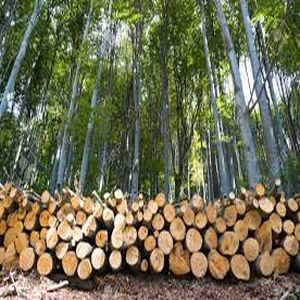log: (169, 242, 191, 276), (228, 253, 252, 283), (207, 251, 229, 280), (189, 250, 208, 279), (258, 253, 277, 280), (272, 248, 291, 275), (185, 225, 203, 253), (219, 230, 239, 255), (60, 249, 77, 278), (242, 237, 260, 264), (245, 208, 263, 235), (169, 216, 186, 243), (157, 230, 175, 255), (222, 204, 240, 229), (17, 247, 36, 270), (90, 247, 107, 272), (150, 248, 166, 274), (36, 253, 54, 276), (282, 233, 300, 256), (57, 220, 74, 244), (76, 256, 92, 281), (79, 217, 99, 237), (203, 227, 219, 251), (267, 213, 285, 234), (124, 245, 139, 268), (193, 210, 208, 233), (121, 226, 137, 247), (14, 233, 30, 254), (22, 210, 37, 232), (75, 241, 92, 260), (234, 219, 248, 242), (108, 250, 123, 271), (37, 208, 52, 229), (232, 196, 249, 214), (189, 192, 205, 211), (151, 212, 166, 232), (110, 229, 124, 250), (257, 197, 274, 214), (27, 229, 40, 251), (181, 206, 196, 225), (112, 212, 127, 231), (46, 230, 59, 251), (143, 235, 158, 253), (214, 216, 228, 235), (163, 204, 177, 223), (6, 211, 22, 227), (81, 196, 96, 213), (205, 206, 219, 223), (286, 196, 299, 214), (34, 239, 47, 257), (12, 220, 26, 236), (95, 230, 108, 247), (68, 194, 81, 211), (282, 218, 294, 236), (274, 201, 286, 219), (147, 198, 159, 216), (154, 192, 166, 209), (2, 195, 15, 210), (103, 206, 114, 223), (253, 183, 266, 197), (75, 210, 87, 225), (138, 258, 150, 272), (138, 226, 149, 241), (112, 188, 124, 201), (30, 201, 41, 215), (124, 211, 134, 226)
